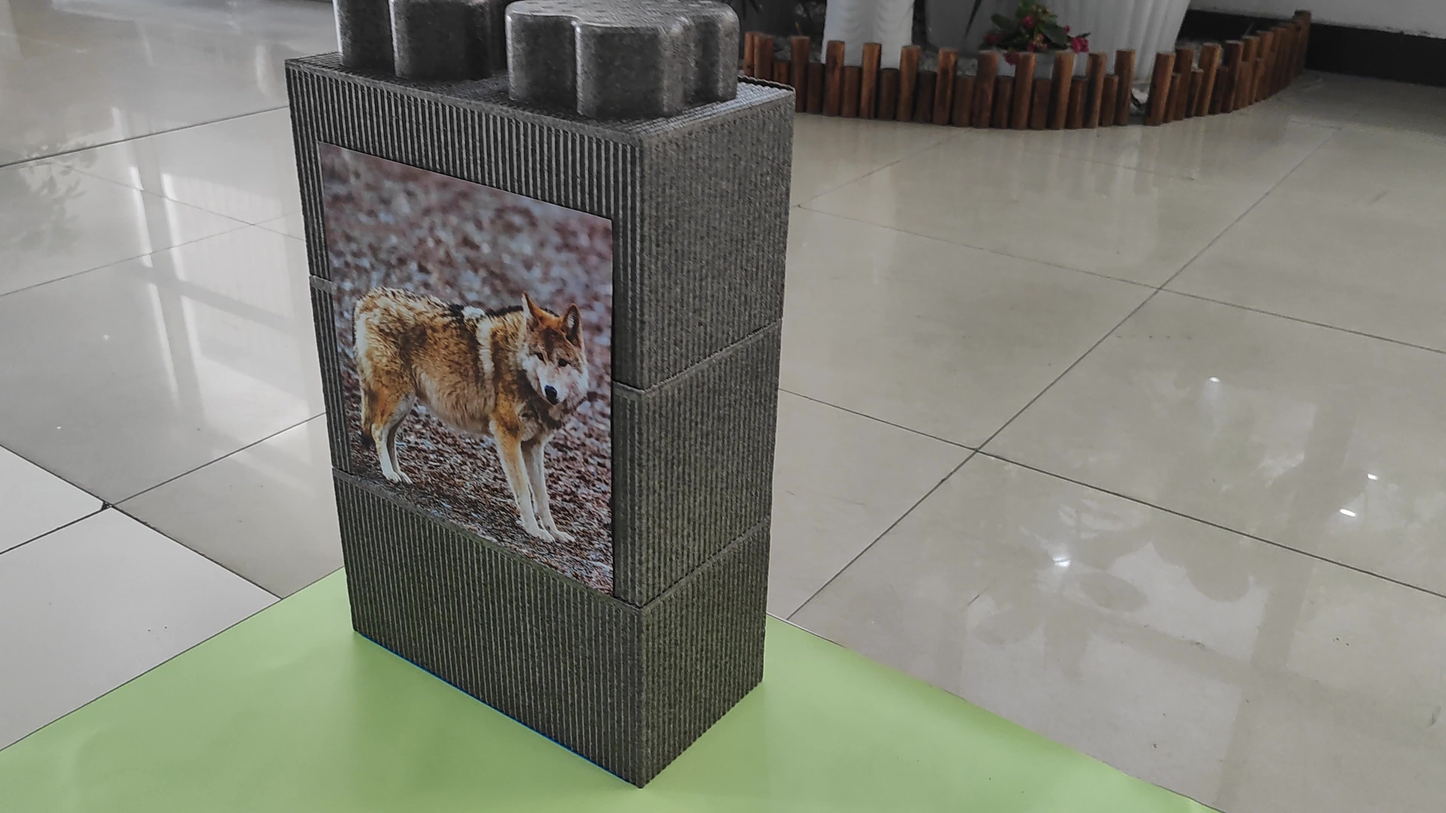wolf: (334, 156, 613, 551)
